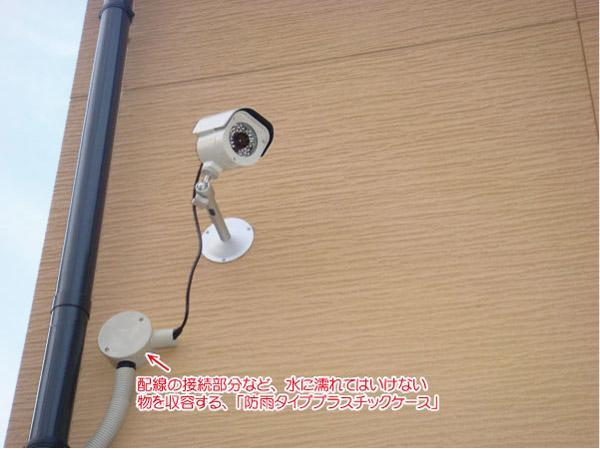maru: (188, 105, 279, 178)
